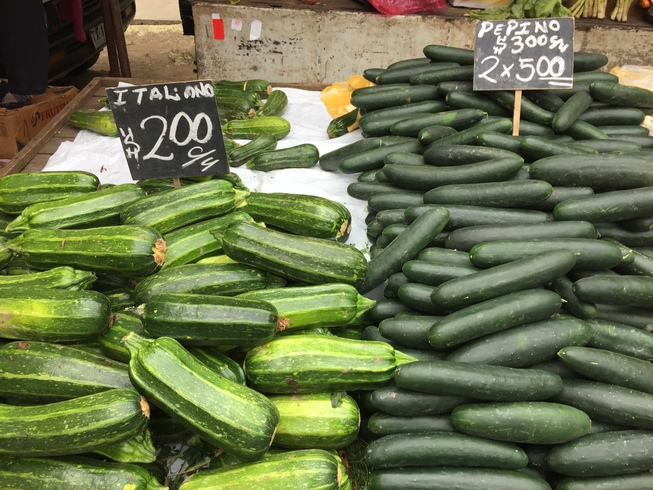precio: (105, 79, 234, 185), (467, 20, 585, 100)
